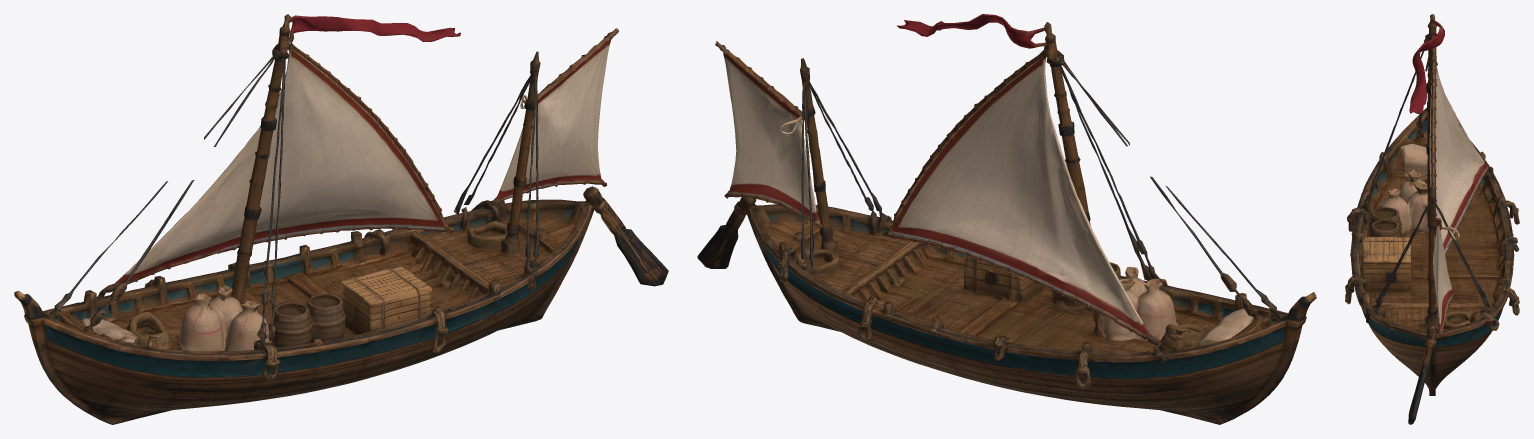
Rendered from osmanli-karamursel-nakliye-teknesi-1550-1600-tripo-v1.glb.
The picture shows the model from 3 angles, left to right: view 1: azimuth 30°, elevation 25°; view 2: azimuth 150°, elevation 25°; view 3: azimuth 270°, elevation 25°; orthographic projection. The views are drawn at different scales.
Visible parts, largest first — view 1: tripo_node_f3f628f1-c442-408e-8d97-2facdcc5222c; view 2: tripo_node_f3f628f1-c442-408e-8d97-2facdcc5222c; view 3: tripo_node_f3f628f1-c442-408e-8d97-2facdcc5222c.
Boxes of the visible parts, x1,y1,x2,y2 form: tripo_node_f3f628f1-c442-408e-8d97-2facdcc5222c: [14, 14, 668, 424]; tripo_node_f3f628f1-c442-408e-8d97-2facdcc5222c: [697, 14, 1316, 424]; tripo_node_f3f628f1-c442-408e-8d97-2facdcc5222c: [1345, 14, 1519, 424].
Bounding box in the file's own units: 1 × 0.5455 × 0.3008.
1 material, 1 textured.
